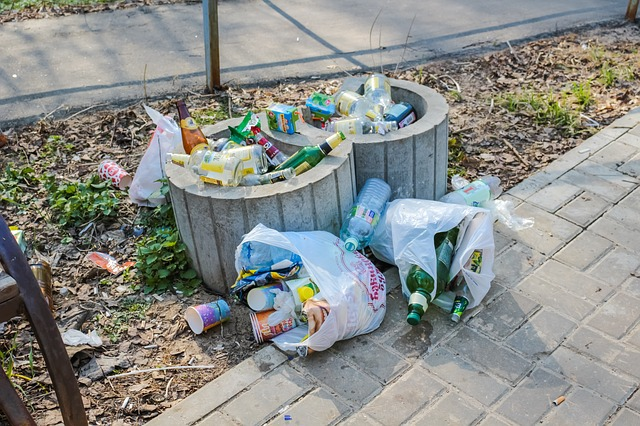bottle: (404, 217, 460, 328), (270, 131, 349, 177), (174, 99, 212, 172)
cup: (182, 296, 234, 340), (249, 308, 299, 345), (96, 155, 139, 195)
plastic_bottle: (338, 174, 393, 256)
